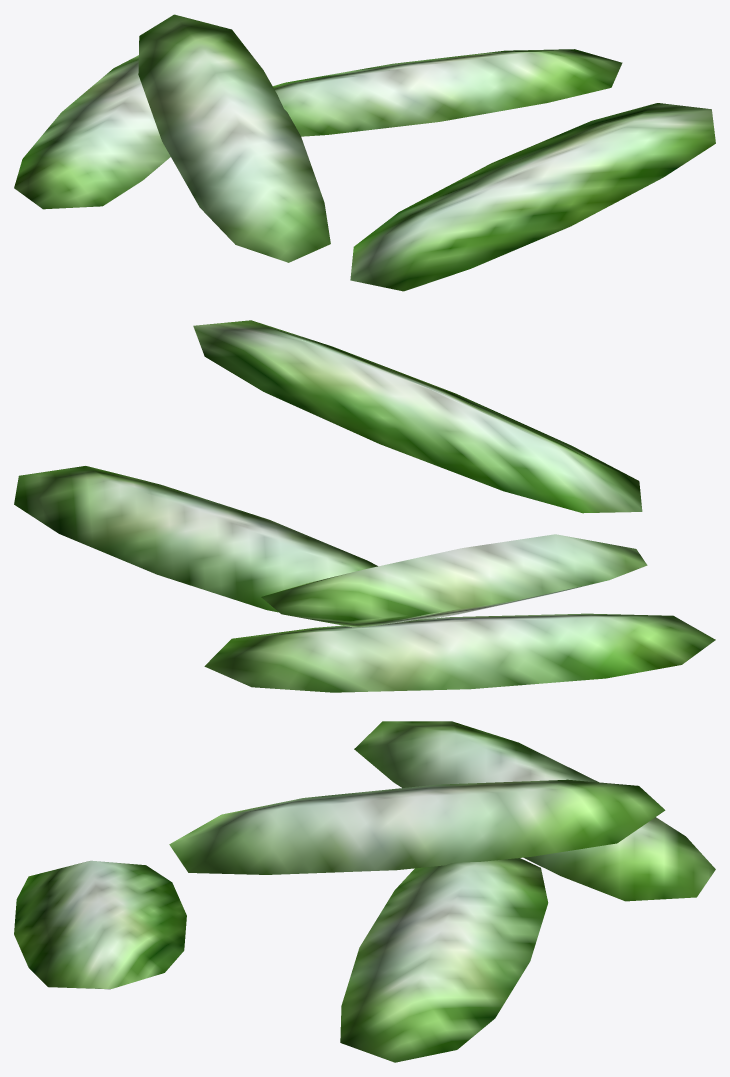
File: KM_SEEDS_09.glb
The picture shows the model from 3 angles, top to bottom: view 1: azimuth 30°, elevation 25°; view 2: azimuth 150°, elevation 25°; view 3: azimuth 270°, elevation 25°; orthographic projection. The views are drawn at different scales.
Visible parts, largest first — view 1: Mesh; view 2: Mesh; view 3: Mesh.
Part boxes in pixels (x1=…): Mesh: x1=14, y1=14, x2=715, y2=291; Mesh: x1=14, y1=320, x2=715, y2=692; Mesh: x1=14, y1=721, x2=715, y2=1062.
Bounding box in the file's own units: 0.3483 × 0.0488 × 0.3026.
Materials: 1 (1 with a texture image).
